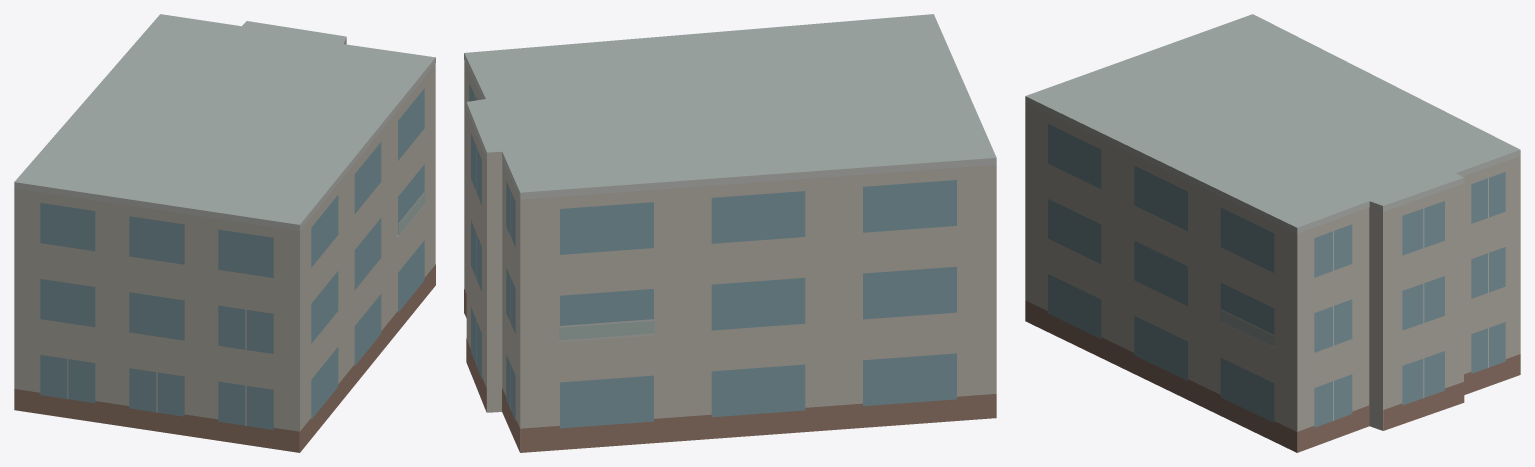
The model's file is survey-upis-32676624.glb.
3 views of the same model, side by side, from view 1: azimuth 30°, elevation 25°; view 2: azimuth 150°, elevation 25°; view 3: azimuth 270°, elevation 25° (orthographic). The views are drawn at different scales.
Visible parts, largest first — view 1: survey-upis-32676624.tmp; view 2: survey-upis-32676624.tmp; view 3: survey-upis-32676624.tmp.
Boxes of the visible parts, <box> form: survey-upis-32676624.tmp: <box>14,14,435,452</box>; survey-upis-32676624.tmp: <box>464,14,996,452</box>; survey-upis-32676624.tmp: <box>1025,14,1520,452</box>.
Bounding box in the file's own units: 18.55 × 9.1 × 18.17.
